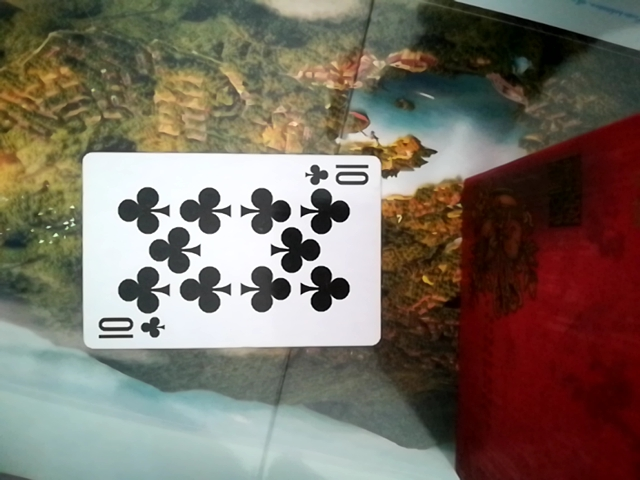mh 10: (74, 159, 387, 349)
